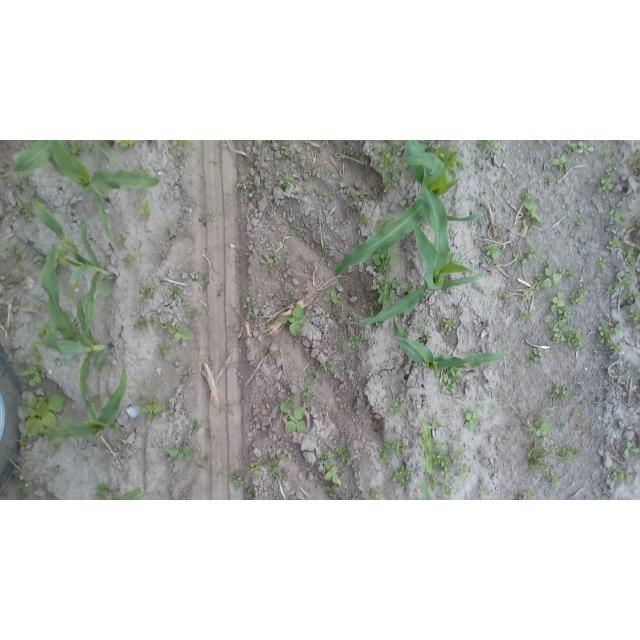Maize: (333, 140, 461, 278), (30, 241, 117, 423), (345, 220, 484, 327), (26, 191, 118, 340), (48, 140, 161, 238), (42, 364, 126, 442), (392, 320, 510, 375), (0, 140, 52, 181), (415, 414, 435, 474), (117, 488, 144, 500), (421, 481, 431, 500)
Weeds: (495, 386, 551, 438), (24, 394, 66, 439), (20, 346, 47, 385), (301, 363, 327, 400), (433, 442, 455, 485), (547, 308, 573, 343), (370, 273, 398, 305), (525, 440, 552, 473), (279, 399, 305, 433), (379, 438, 405, 469), (281, 304, 306, 336), (436, 146, 461, 175), (138, 395, 165, 420), (371, 142, 394, 170), (263, 454, 286, 482), (442, 367, 462, 395), (374, 248, 398, 271), (165, 321, 191, 341), (393, 466, 414, 490), (321, 462, 341, 487), (522, 200, 541, 226), (261, 253, 284, 272), (567, 327, 586, 350), (568, 284, 591, 303), (168, 446, 196, 461), (541, 268, 562, 288), (137, 282, 160, 299), (243, 294, 258, 320), (525, 346, 544, 366), (618, 271, 638, 289), (426, 472, 442, 493), (463, 410, 479, 431), (596, 326, 612, 347), (613, 468, 632, 485), (232, 470, 248, 490), (550, 291, 566, 311), (16, 483, 37, 498), (551, 385, 572, 400), (337, 445, 353, 464), (382, 174, 398, 193), (484, 243, 500, 261), (17, 177, 36, 192), (610, 209, 627, 225), (17, 200, 32, 218), (481, 141, 499, 156), (140, 198, 153, 218), (388, 399, 408, 412), (49, 438, 64, 455), (377, 218, 396, 231), (348, 334, 364, 349), (537, 422, 552, 438), (623, 245, 638, 261), (550, 155, 566, 170), (324, 291, 344, 303), (96, 482, 110, 499), (440, 318, 457, 332), (562, 445, 577, 460), (624, 441, 640, 455), (607, 236, 621, 252), (577, 142, 594, 155), (629, 149, 640, 169), (125, 253, 139, 268), (71, 141, 86, 155), (157, 345, 173, 358), (134, 315, 147, 331), (624, 292, 640, 305), (185, 310, 200, 323), (115, 234, 130, 247), (280, 174, 295, 187), (442, 485, 455, 500), (602, 177, 615, 192), (6, 277, 22, 289), (281, 288, 295, 301), (453, 450, 467, 463), (370, 486, 385, 498), (317, 449, 335, 459), (449, 252, 464, 264), (248, 460, 259, 476), (603, 149, 613, 166), (92, 393, 104, 407), (116, 140, 137, 148), (348, 192, 366, 201), (493, 290, 509, 300), (10, 244, 22, 257), (550, 473, 562, 486), (456, 463, 468, 476), (431, 417, 443, 430), (597, 256, 610, 268), (522, 288, 534, 301), (630, 306, 640, 321), (289, 224, 301, 236), (282, 448, 294, 460), (192, 420, 203, 433), (189, 270, 200, 282), (32, 226, 44, 237), (565, 140, 576, 152), (526, 248, 539, 258), (247, 486, 258, 497), (480, 485, 490, 497), (148, 315, 157, 328), (18, 434, 28, 445), (140, 380, 151, 390), (169, 285, 180, 295), (87, 143, 97, 154), (610, 342, 621, 352), (604, 285, 615, 295), (357, 215, 367, 226), (170, 140, 188, 146), (451, 436, 463, 445), (327, 485, 340, 493), (572, 409, 585, 417), (459, 193, 470, 202), (521, 492, 532, 501), (494, 222, 505, 231), (522, 311, 533, 320), (282, 144, 290, 156), (576, 215, 584, 227), (348, 311, 358, 320), (403, 284, 413, 293), (236, 183, 248, 190), (631, 365, 640, 374), (568, 270, 576, 280), (340, 330, 347, 341), (342, 366, 351, 374), (452, 400, 461, 408), (139, 166, 148, 174), (424, 331, 432, 340), (563, 421, 570, 431), (524, 189, 531, 199), (548, 175, 555, 185), (554, 244, 562, 252), (535, 281, 543, 289), (543, 261, 553, 267), (534, 273, 542, 280), (521, 259, 529, 266), (208, 211, 213, 221), (606, 167, 613, 174), (529, 172, 535, 180), (624, 223, 632, 229), (612, 324, 618, 332), (479, 405, 485, 412), (515, 255, 521, 262), (592, 390, 597, 398), (422, 321, 430, 326), (503, 436, 509, 442), (505, 183, 511, 189), (324, 246, 329, 253), (509, 422, 514, 429), (539, 141, 550, 144), (498, 335, 503, 341), (562, 269, 566, 276), (637, 324, 640, 329)
